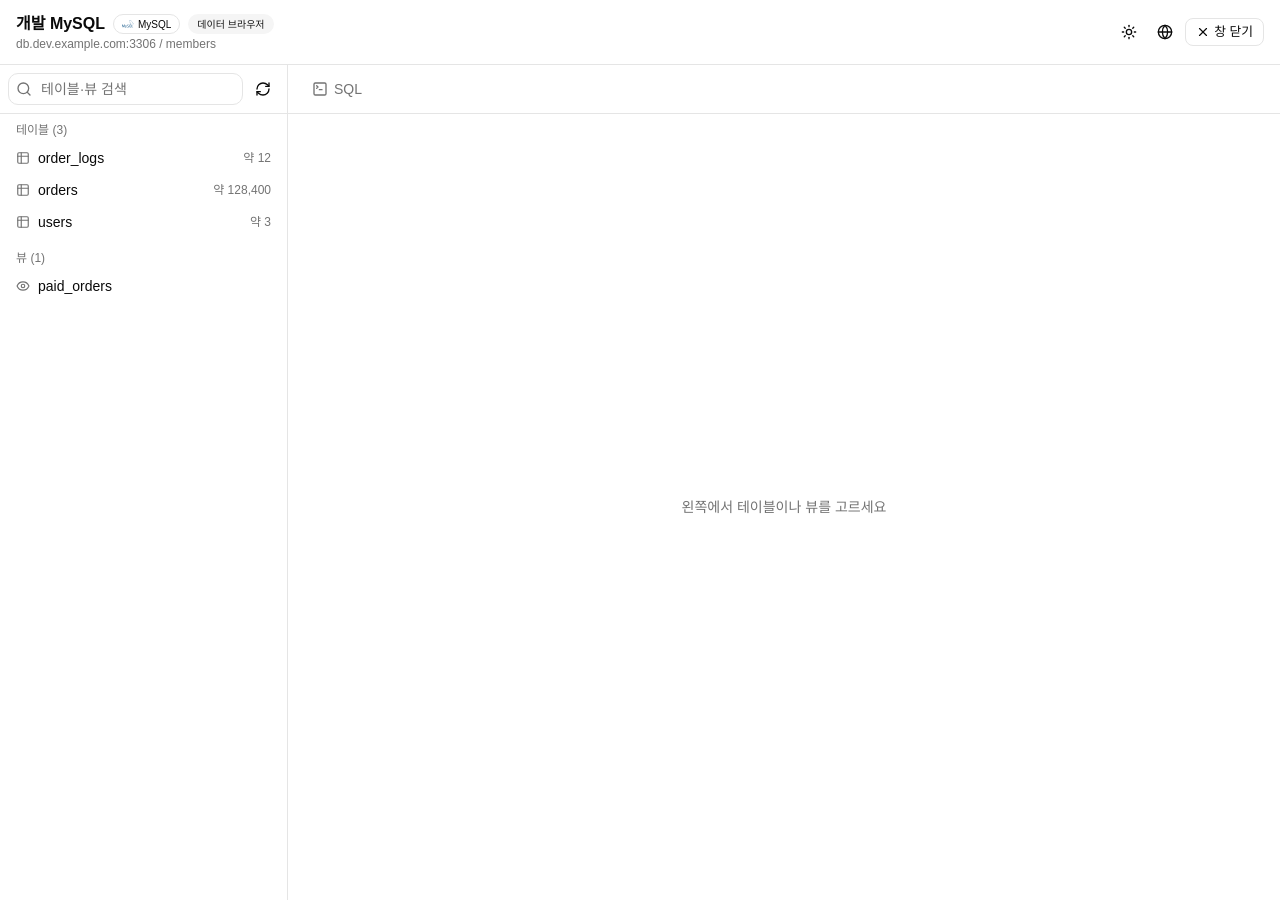
Test: 데이터 브라우저 — 객체 목록 › 이름으로 찾는다 — 일치하는 것이 없으면 안내한다
The image size is (1280, 900).
Expected: the button "users 약 3" is shown, x1=8 y1=206 x2=279 y2=238
Type "paid" into the field labelled "테이블·뷰 검색" at x=126, y=89, box x1=8 y1=73 x2=243 y2=105
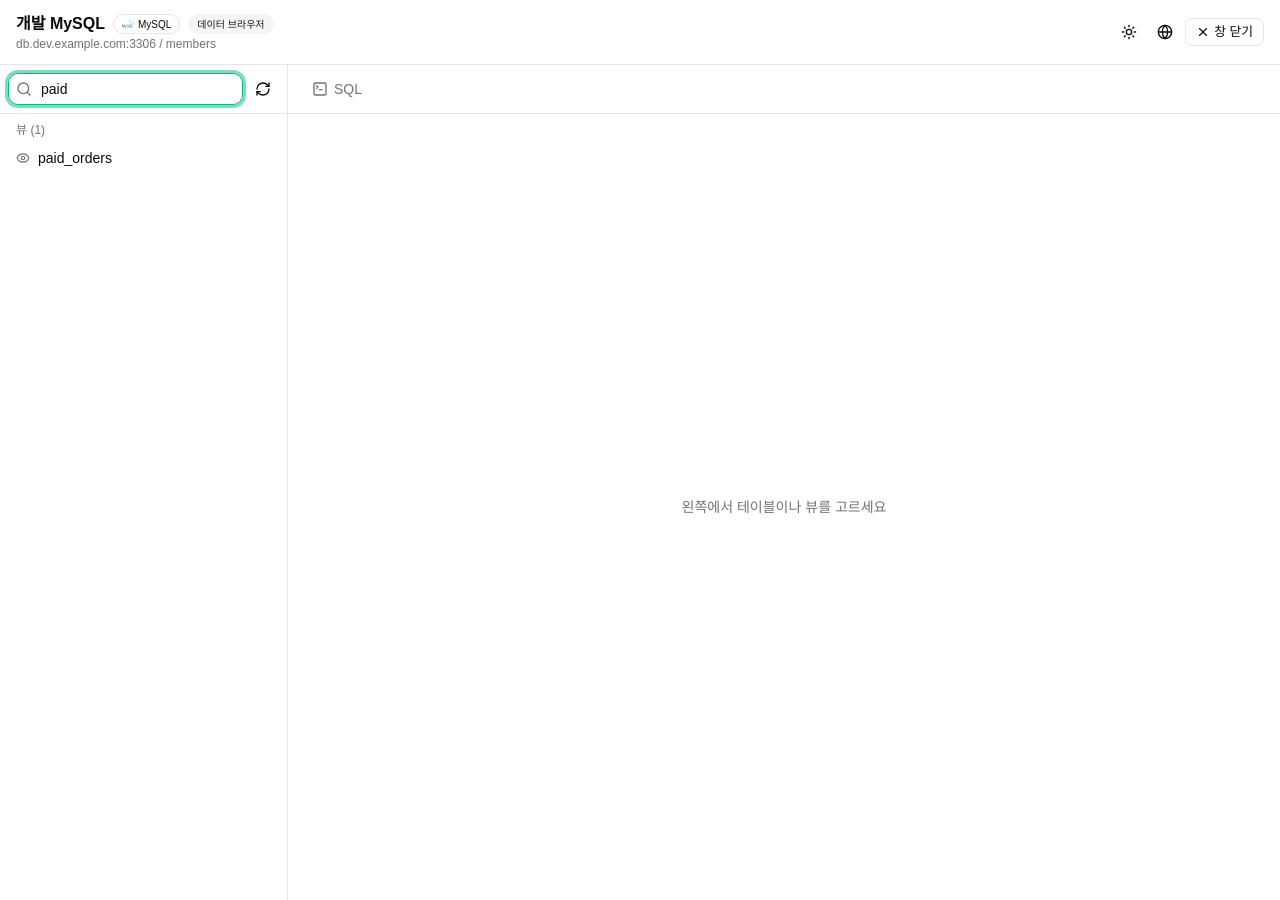
Expected: the button "paid_orders" is shown, x1=8 y1=142 x2=279 y2=174
Now the button "users" is gone
Replace the text in the field named "테이블·뷰 검색" with "zzz" at x=126, y=89, box x1=8 y1=73 x2=243 y2=105
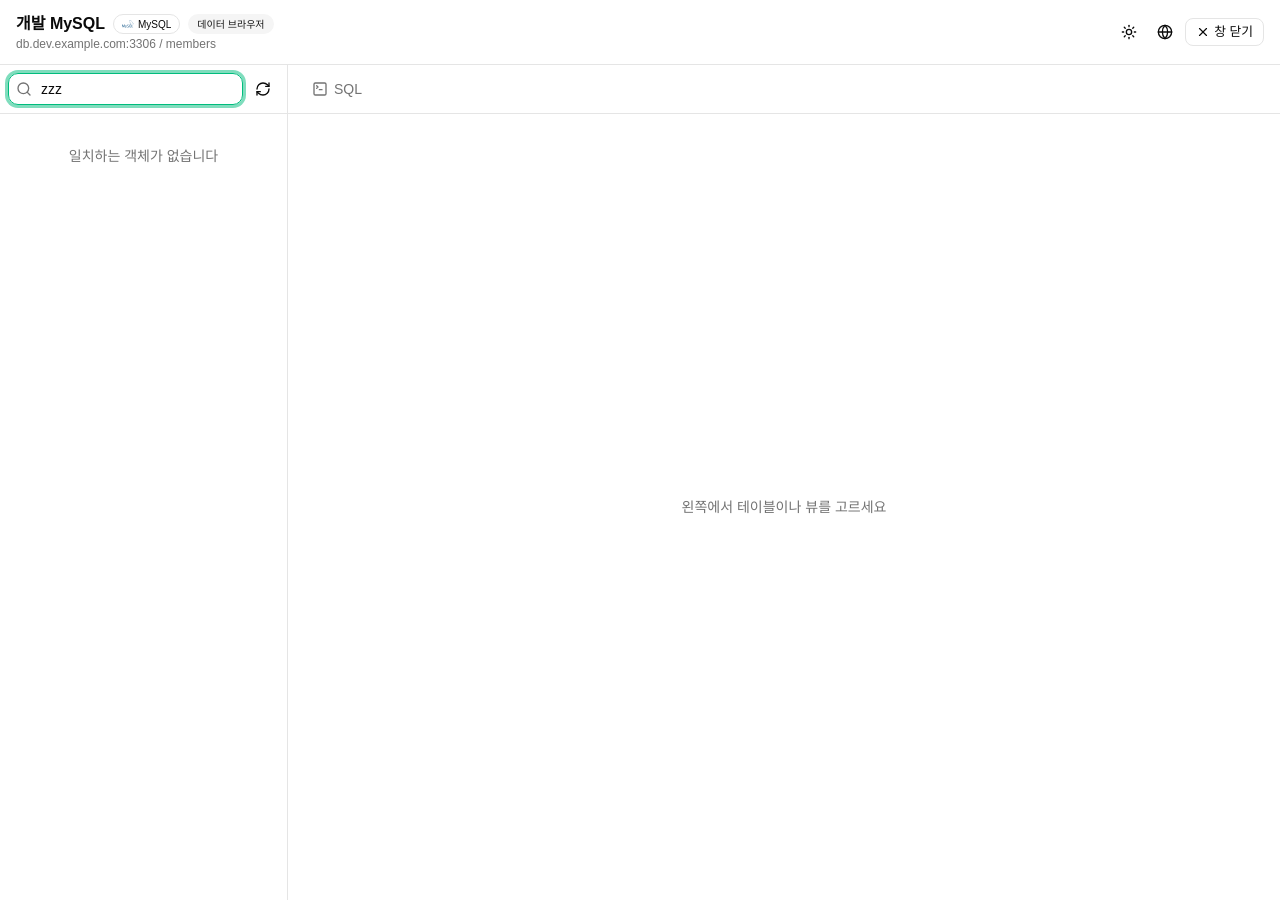
Now the text "일치하는 객체가 없습니다" is shown, box x1=69 y1=148 x2=218 y2=164
